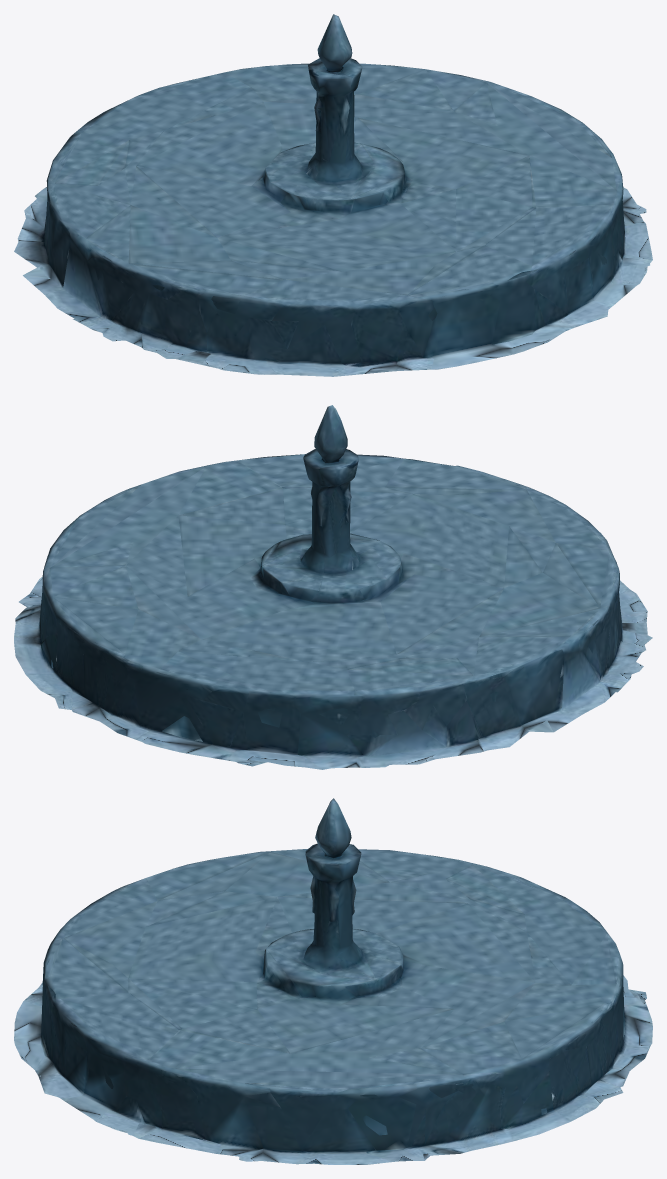
The model's file is fountain.glb.
The picture shows the model from 3 angles, top to bottom: view 1: azimuth 30°, elevation 25°; view 2: azimuth 150°, elevation 25°; view 3: azimuth 270°, elevation 25°; orthographic projection.
Size of the model in its own units: 1.9 by 0.7564 by 1.89.
1 material, 1 textured.
